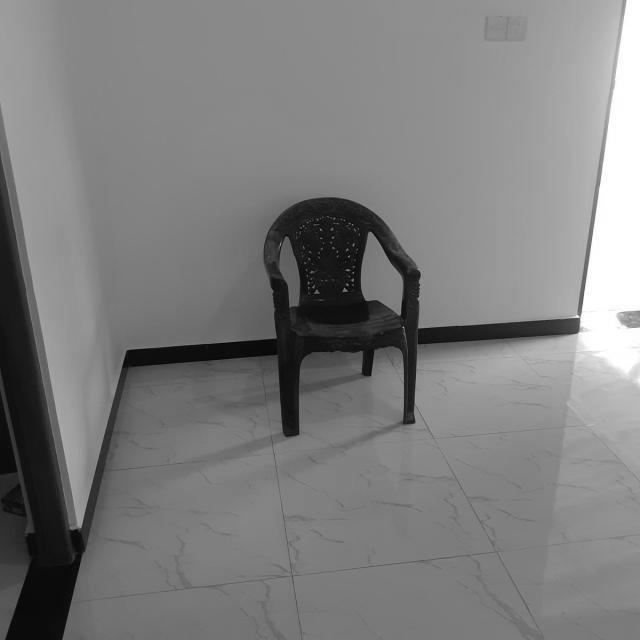chair: (258, 190, 424, 443)
